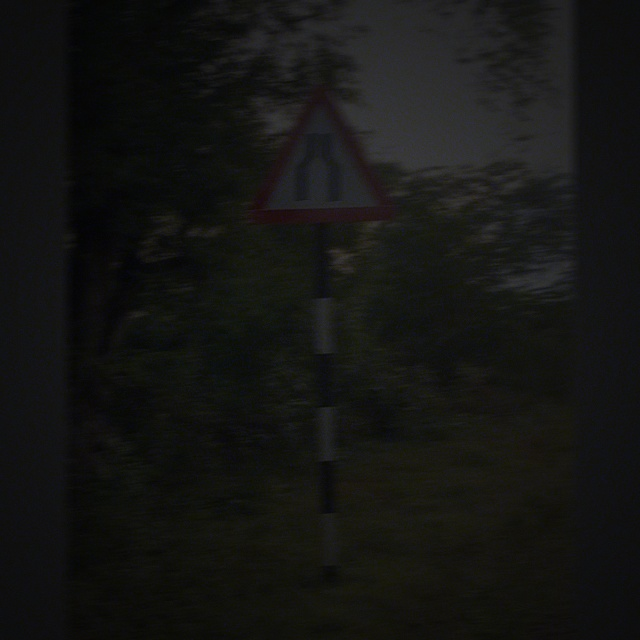Narrow_Road_Ahead: (241, 80, 400, 227)
